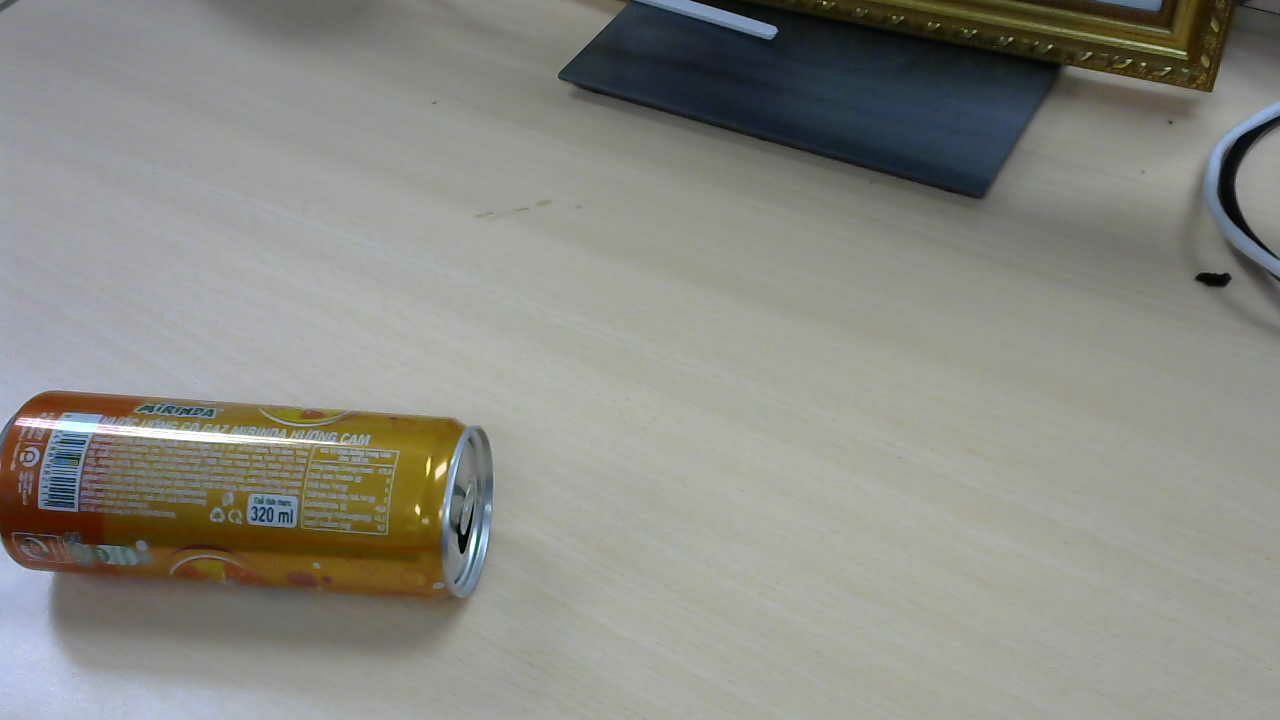Mirinda: (7, 395, 500, 606)
